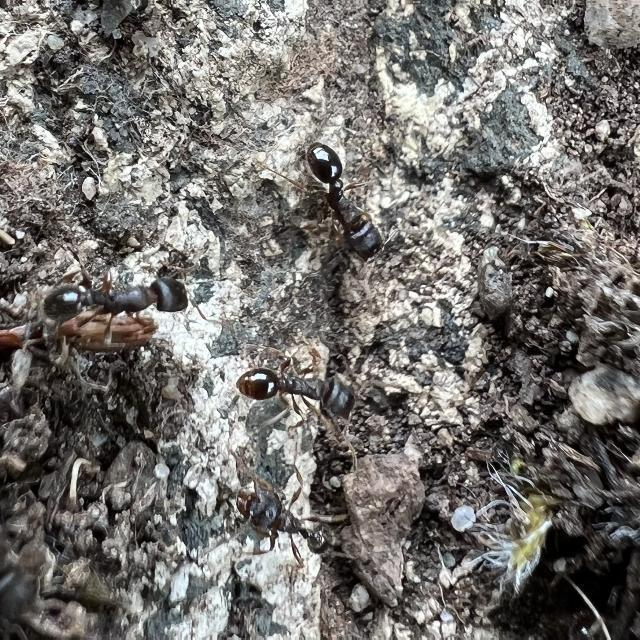Tetramorium: (32, 232, 198, 346), (228, 458, 342, 568), (296, 130, 386, 266), (230, 343, 366, 425)
